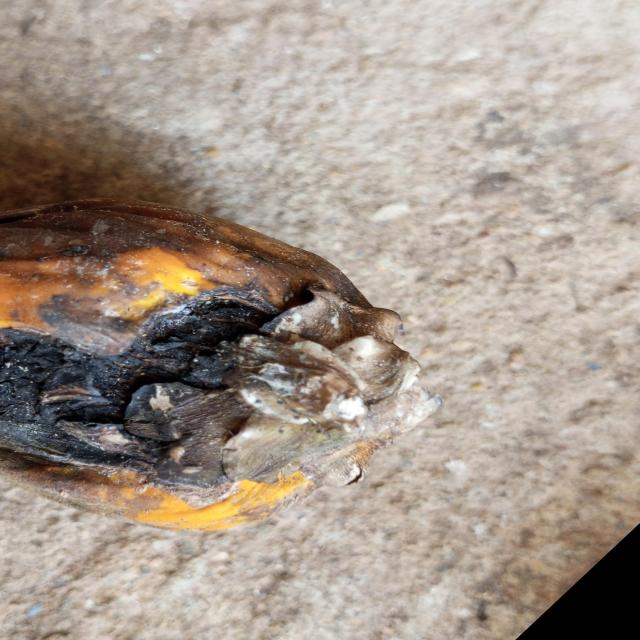damaged: (0, 189, 439, 537)
